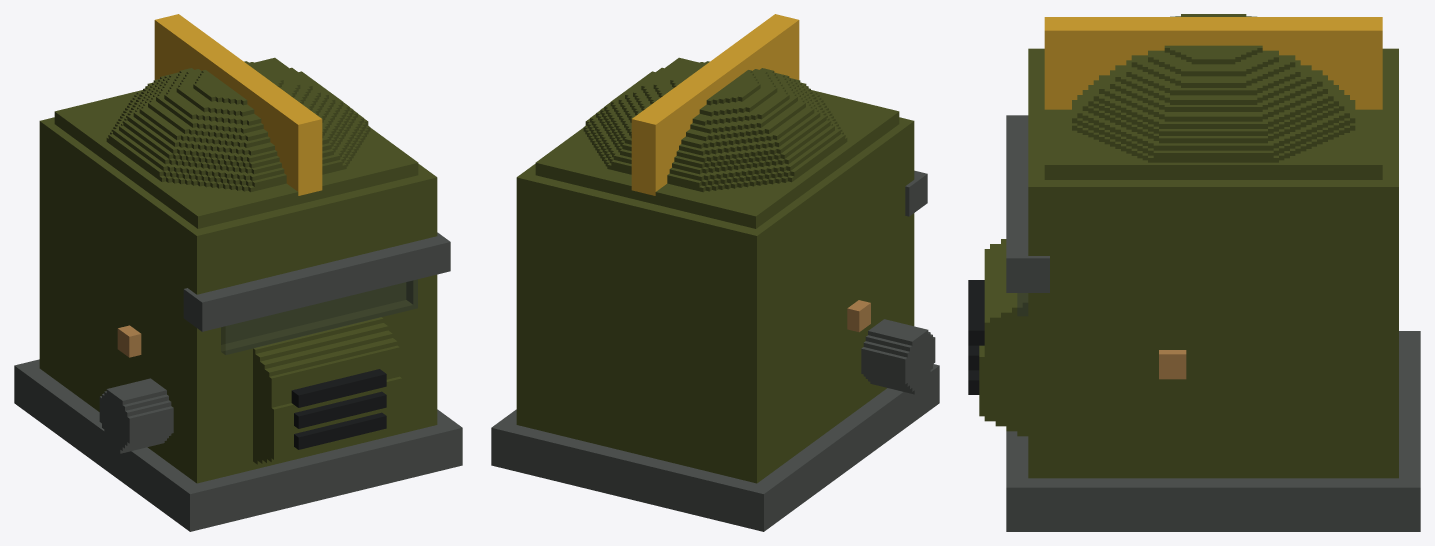
The model's file is helmet_trooper.glb.
3 renders of one model, left to right at view 1: azimuth 30°, elevation 25°; view 2: azimuth 150°, elevation 25°; view 3: azimuth 270°, elevation 25°, orthographic. The views are drawn at different scales.
Parts seen in each view (by area): view 1: helmet_trooper:compound; view 2: helmet_trooper:compound; view 3: helmet_trooper:compound.
Boxes of the visible parts, bbox=[...] form: helmet_trooper:compound: bbox=[14, 14, 462, 531]; helmet_trooper:compound: bbox=[491, 14, 939, 531]; helmet_trooper:compound: bbox=[968, 14, 1420, 531].
Size of the model in its own units: 0.3 by 0.348 by 0.332.
